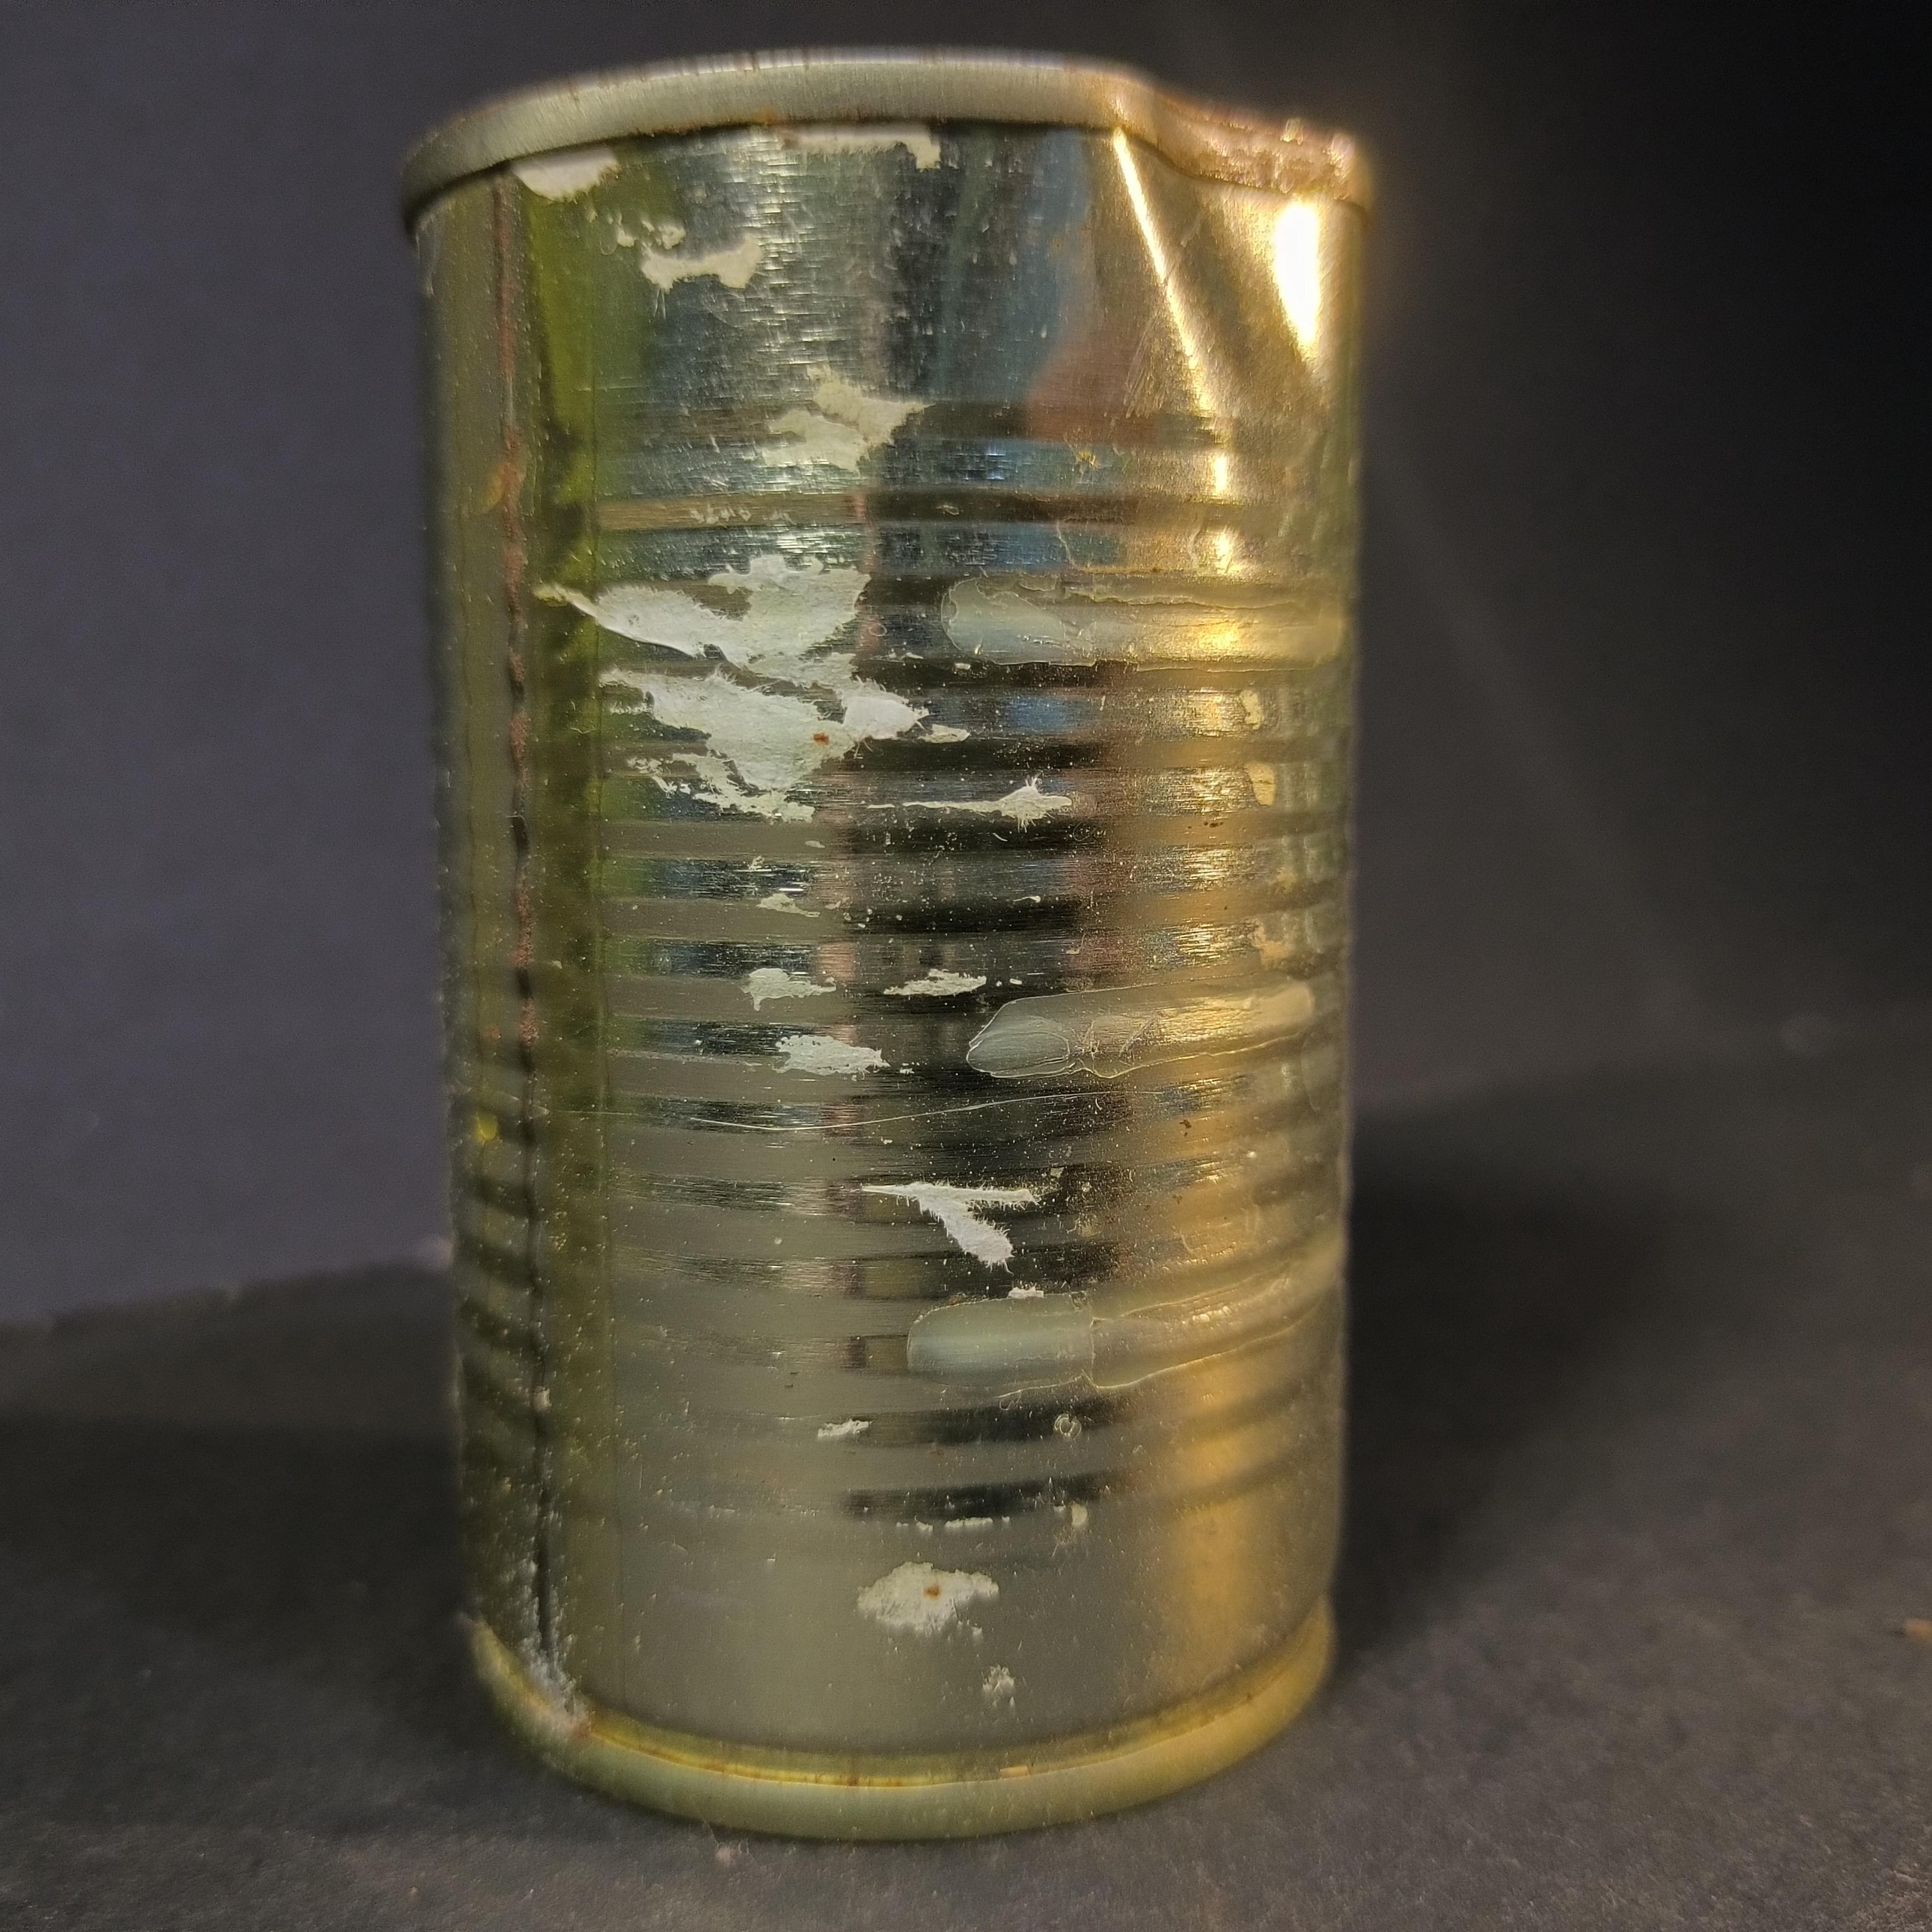Dented: (373, 36, 1399, 1808)
